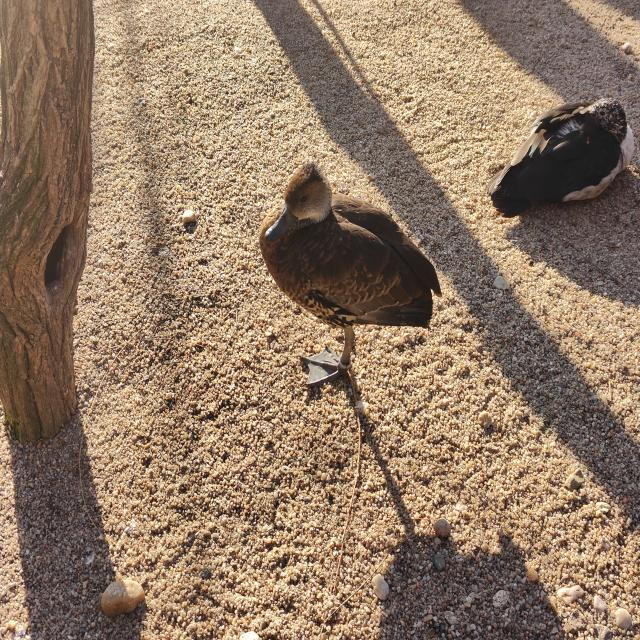bird: (259, 161, 443, 388), (486, 97, 635, 218)
